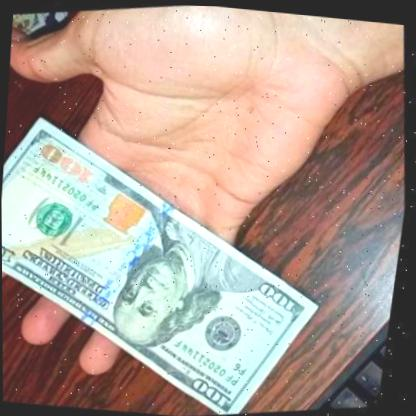one_hundred-front: (0, 39, 369, 416)
